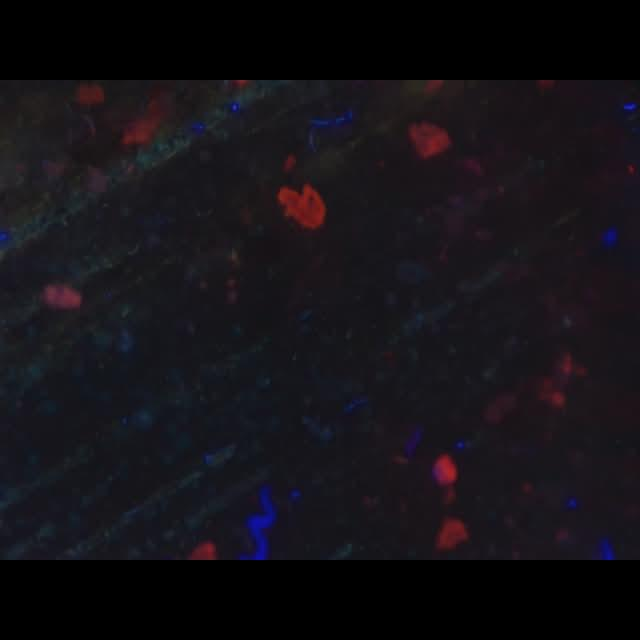Fragment: (276, 183, 324, 230)
